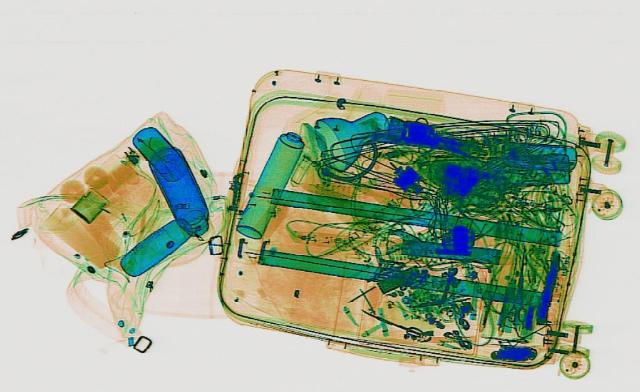Scissors: (356, 304, 426, 336)
